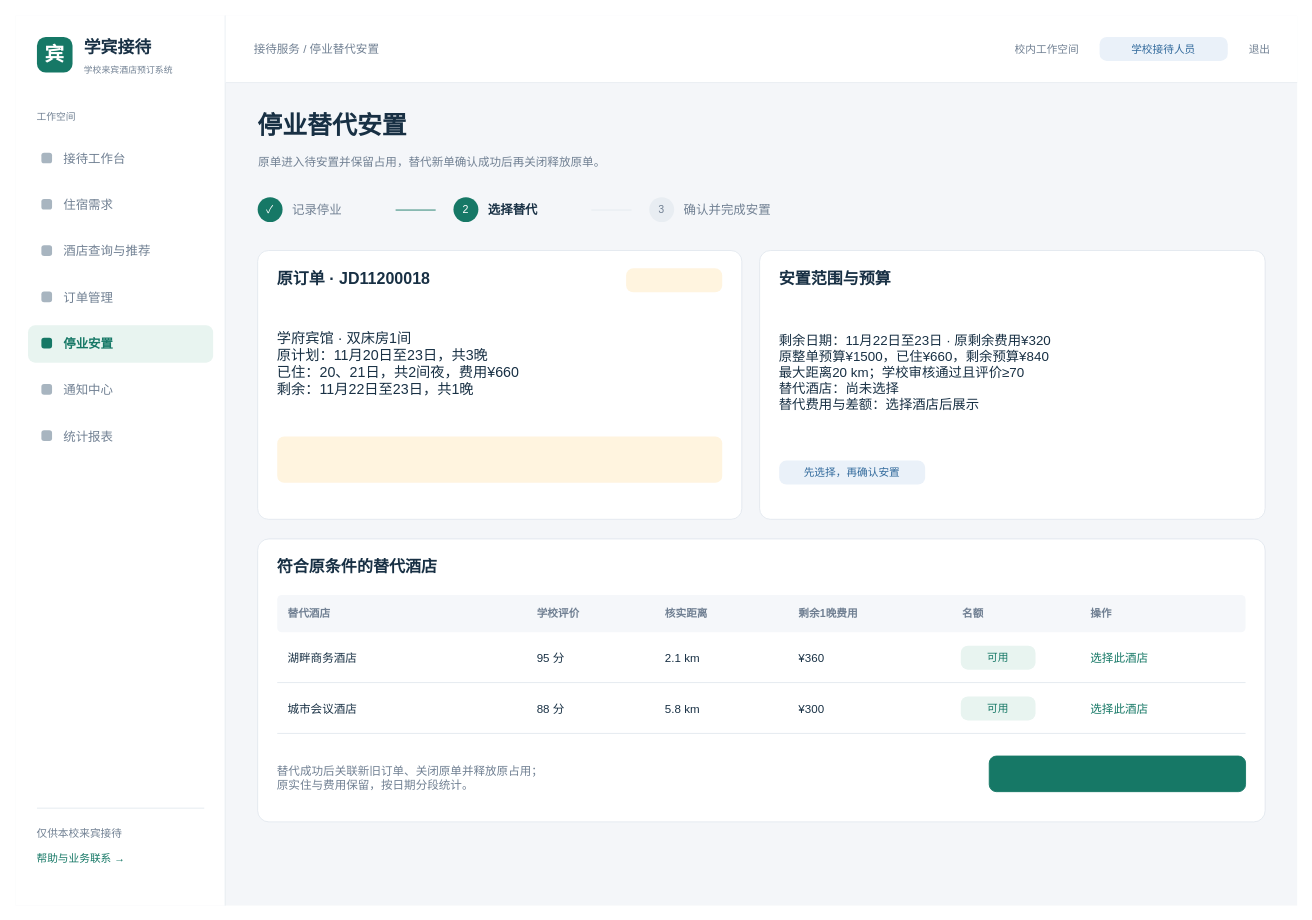
Some shapes in this 1312 by 920 pixel diagram are drawn without their labels. The shapes that lost their labels are listed below. From the top down, each one's centre as x and y in pixels, then its label:
At pixel 674 280: "待安置".
At pixel 499 459: "原占用保留中；受影响日期已停售。".
At pixel 1117 773: "确认替代方案并安置".
